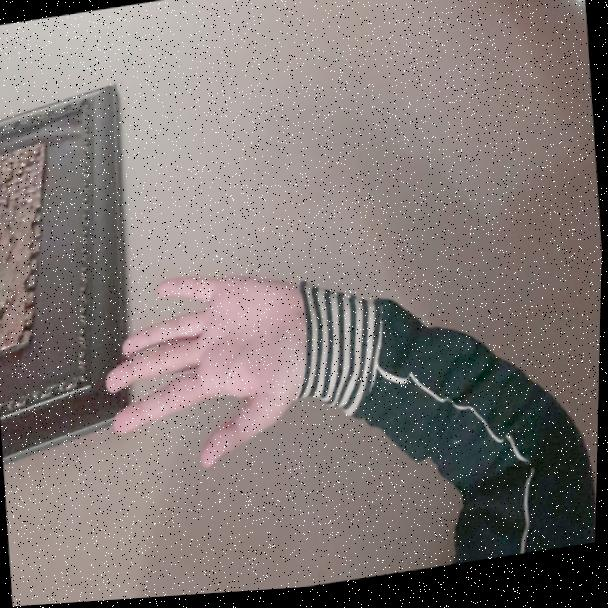five: (87, 229, 326, 518)
